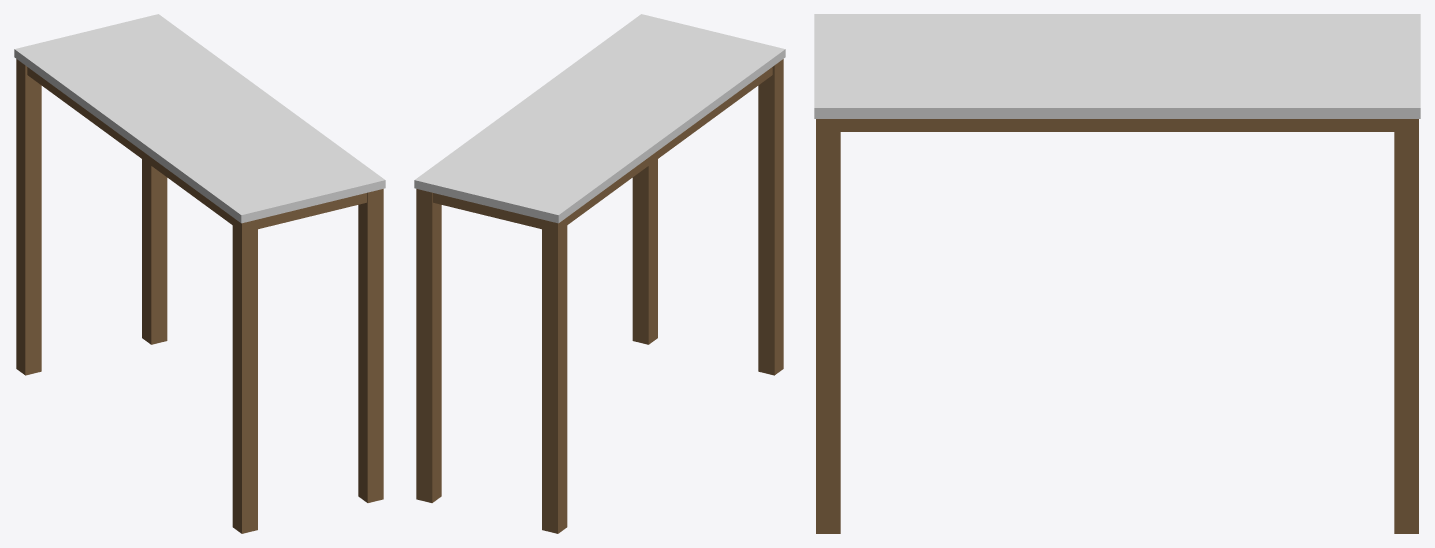
The model's file is Table_06_C1.fbx.
3 views of the same model, side by side, from view 1: azimuth 30°, elevation 25°; view 2: azimuth 150°, elevation 25°; view 3: azimuth 270°, elevation 25° (orthographic). The views are drawn at different scales.
Parts seen in each view (by area): view 1: Table_06_C1; view 2: Table_06_C1; view 3: Table_06_C1.
Part boxes in pixels (<box>): Table_06_C1: <box>14,14,385,533</box>; Table_06_C1: <box>414,14,785,533</box>; Table_06_C1: <box>814,14,1420,533</box>.
Size of the model in its own units: 55 by 117 by 150.
